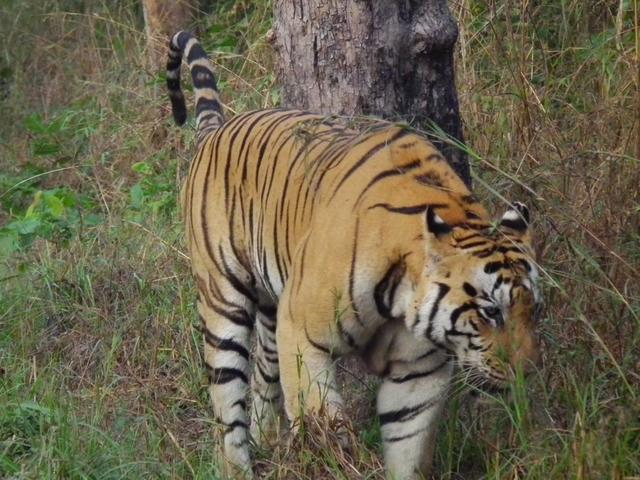tiger: (140, 64, 528, 480)
